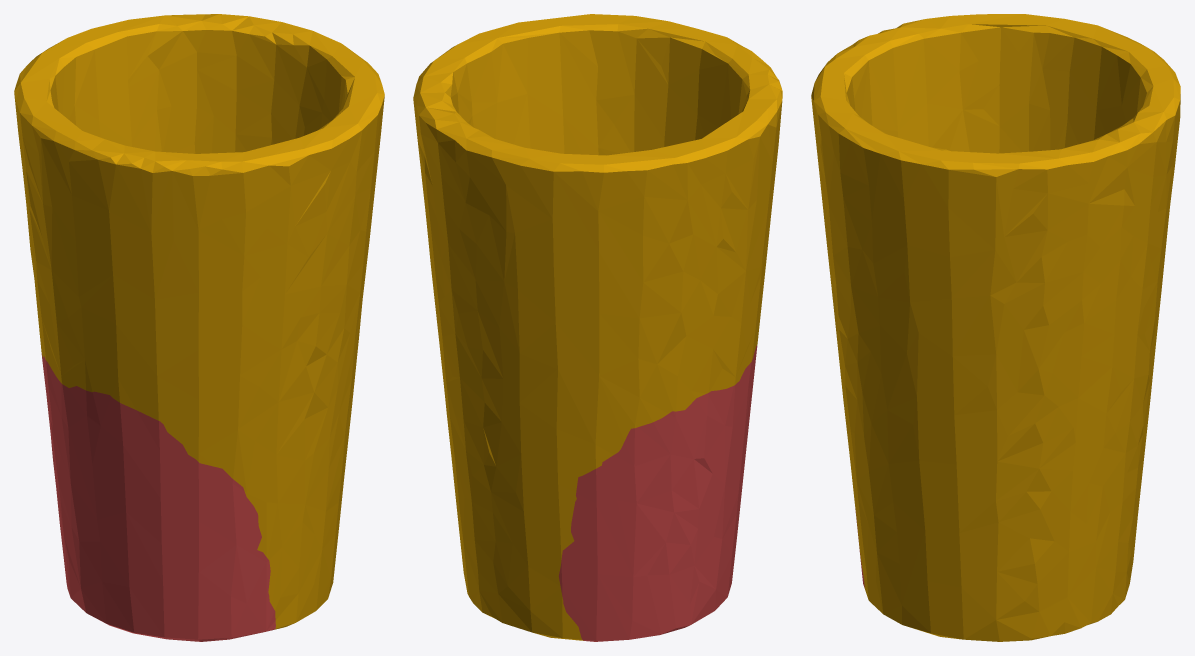
File: fractured_6_2pcs.glb
3 renders of one model, left to right at view 1: azimuth 30°, elevation 25°; view 2: azimuth 150°, elevation 25°; view 3: azimuth 270°, elevation 25°, orthographic.
Parts seen in each view (by area): view 1: piece_0.obj, piece_1.obj; view 2: piece_0.obj, piece_1.obj; view 3: piece_0.obj.
Boxes of the visible parts, x1,y1,x2,y2 form: piece_0.obj: (14,14,384,629); piece_1.obj: (41,353,275,641); piece_0.obj: (413,14,782,640); piece_1.obj: (558,346,757,641); piece_0.obj: (811,14,1180,641).
Size of the model in its own units: 0.6712 by 1 by 0.6685.
